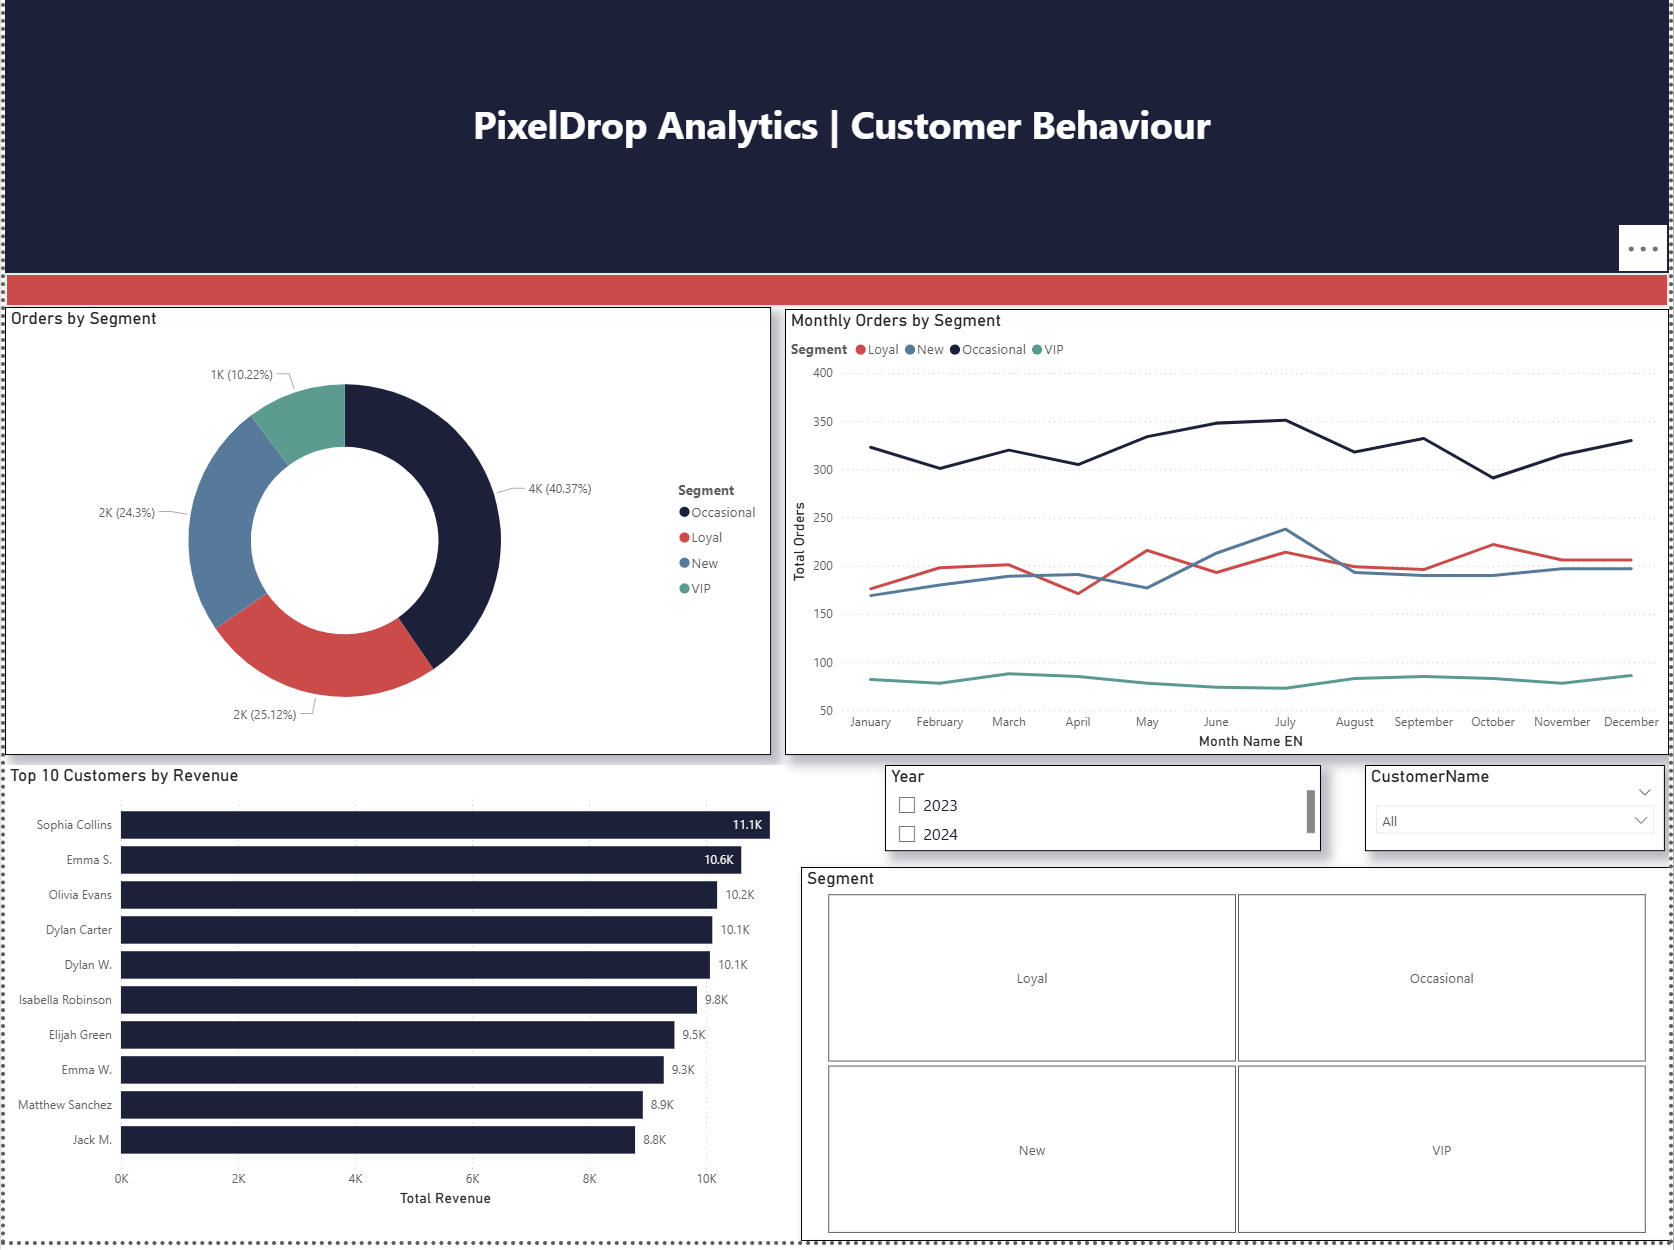

The page's visual inventory and layout, read from the dashboard file:
{"tool":"powerbi","page":{"name":"Customer Behaviour","canvas":[1650,1240],"ordinal":3},"visuals":[{"type":"shape","box":[0,0,1650.7,279.7],"z":0},{"type":"shape","box":[0,279.7,1650.7,33.7],"z":1000},{"type":"textbox","box":[0,101.2,1650,150.8],"z":2000},{"type":"donutChart","title":"Orders by Segment","fields":{"Category":["vw_order_summary.segment"],"Y":["Measures_.Total Orders"]},"box":[0,313.5,759.9,444.4],"z":3000},{"type":"lineChart","title":"Monthly Orders by Segment","fields":{"Category":["DimDate.Month Name EN"],"Y":["Measures_.Total Orders"],"Series":["vw_order_summary.segment"]},"box":[773.8,315.5,876.9,442.4],"z":4000},{"type":"clusteredBarChart","title":"Top 10 Customers by Revenue","fields":{"Category":["vw_order_summary.customer_name"],"Y":["Measures_.Total Revenue"]},"box":[0,767.8,773.8,442.4],"z":5000},{"type":"slicer","title":"Segment","fields":{"Values":["vw_order_summary.segment"]},"box":[789.6,869,863,371],"z":6000},{"type":"slicer","title":"CustomerName","fields":{"Values":["vw_order_summary.customer_name"]},"box":[1349.1,767.8,297.6,85.3],"z":7000},{"type":"slicer","title":"Year","fields":{"Values":["DimDate.Year"]},"box":[873,767.8,432.5,85.3],"z":8000}]}

Visuals, with their boxes in screenshot pixels (x1, y1, x2, y2), scaled from the page's 1650x1240 canvas onto the 1674x1250 screenshot:
shape: 0, 0, 1673, 282
shape: 0, 282, 1673, 316
textbox: 0, 102, 1673, 254
"Orders by Segment" donutChart: 0, 316, 771, 764
"Monthly Orders by Segment" lineChart: 785, 318, 1673, 764
"Top 10 Customers by Revenue" clusteredBarChart: 0, 774, 785, 1220
"Segment" slicer: 801, 876, 1673, 1249
"CustomerName" slicer: 1369, 774, 1671, 860
"Year" slicer: 886, 774, 1324, 860
